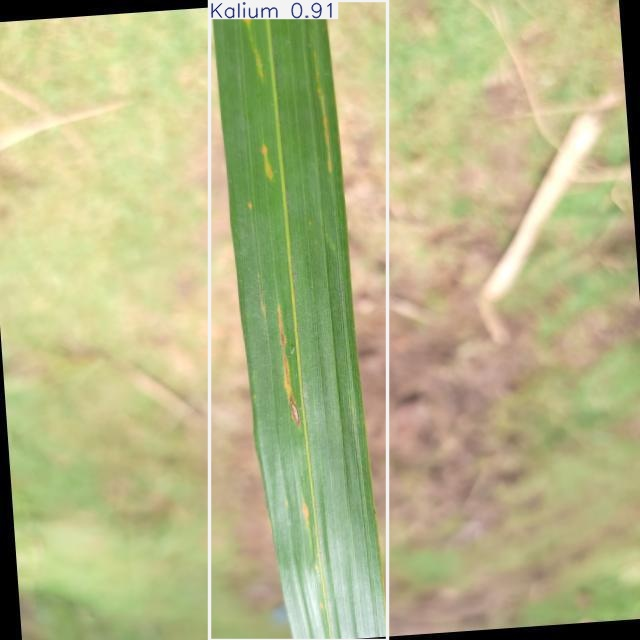Kalium: (210, 0, 388, 640)
